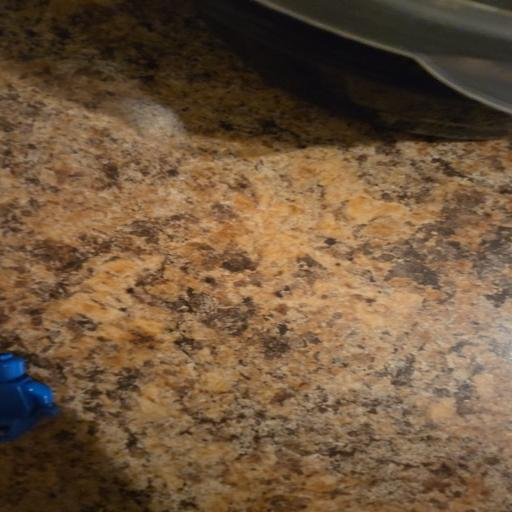Blue: (0, 353, 58, 442)
